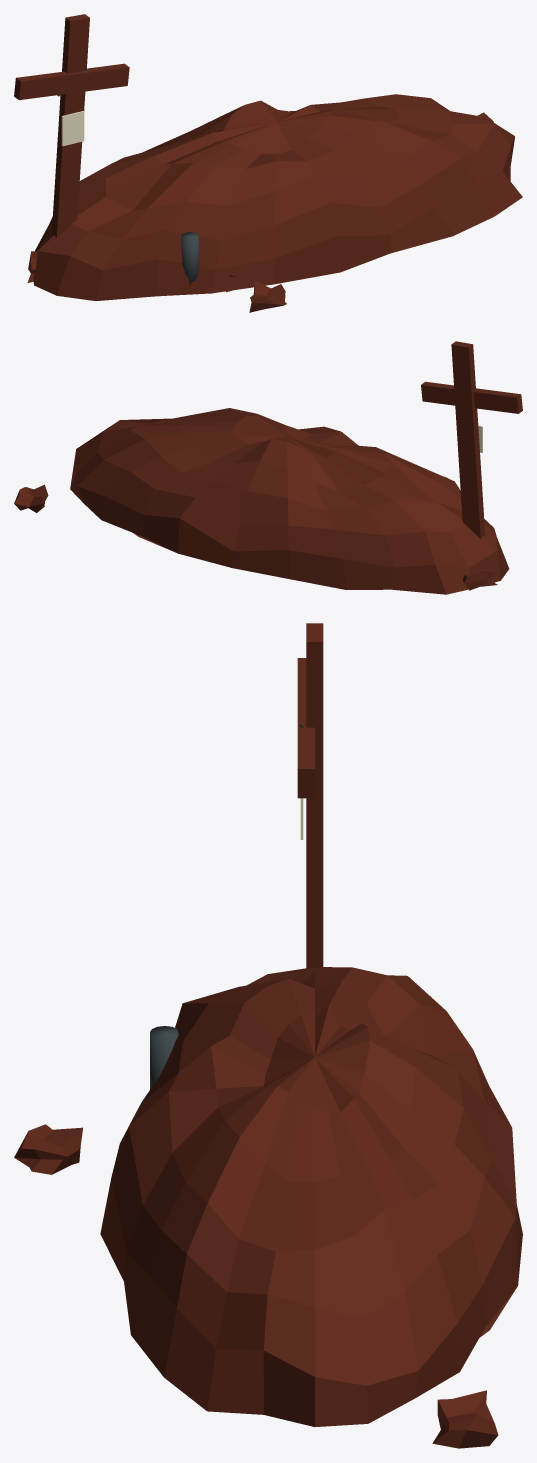
File: graveyard_grave_fresh_1.glb
3 views of the same model, one above another, from view 1: azimuth 30°, elevation 25°; view 2: azimuth 150°, elevation 25°; view 3: azimuth 270°, elevation 25° (orthographic). The views are drawn at different scales.
Parts seen in each view (by area): view 1: mound, cross_post, cross_arm, clod_12, water, photo; view 2: mound, cross_post, cross_arm, clod_0, clod_10; view 3: mound, cross_post, clod_0, clod_12, cross_arm, water.
Boxes of the visible parts, x1,y1,x2,y2 form: mound: [33, 94, 522, 300]; cross_post: [51, 14, 89, 238]; cross_arm: [14, 63, 129, 100]; clod_12: [249, 280, 286, 312]; water: [181, 232, 198, 285]; photo: [61, 111, 84, 146]; mound: [70, 408, 509, 594]; cross_post: [451, 341, 485, 538]; cross_arm: [421, 381, 522, 413]; clod_0: [14, 484, 48, 512]; clod_10: [463, 569, 497, 590]; mound: [100, 967, 522, 1426]; cross_post: [306, 623, 323, 968]; clod_0: [432, 1390, 498, 1448]; clod_12: [14, 1124, 82, 1174]; cross_arm: [297, 658, 314, 798]; water: [150, 1026, 178, 1089].
Size of what is drawn, in the model's own units: 2.38 by 1.15 by 1.19.
